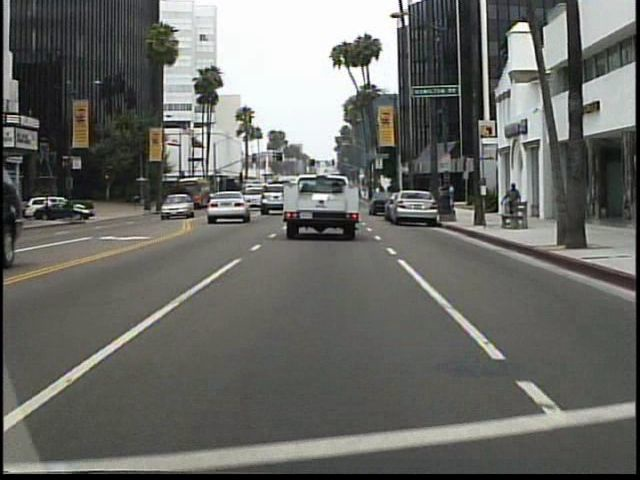person: (500, 181, 523, 225), (133, 189, 143, 215)
